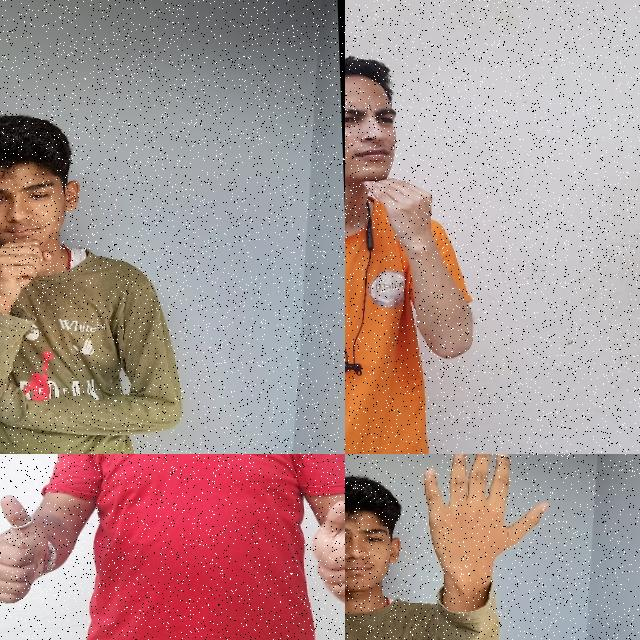Chin Flick: (345, 40, 447, 248)
Fist Mouth: (0, 104, 103, 315)
Moutza: (406, 454, 557, 607)
Thumbs Up: (0, 485, 62, 612), (301, 490, 345, 609)
